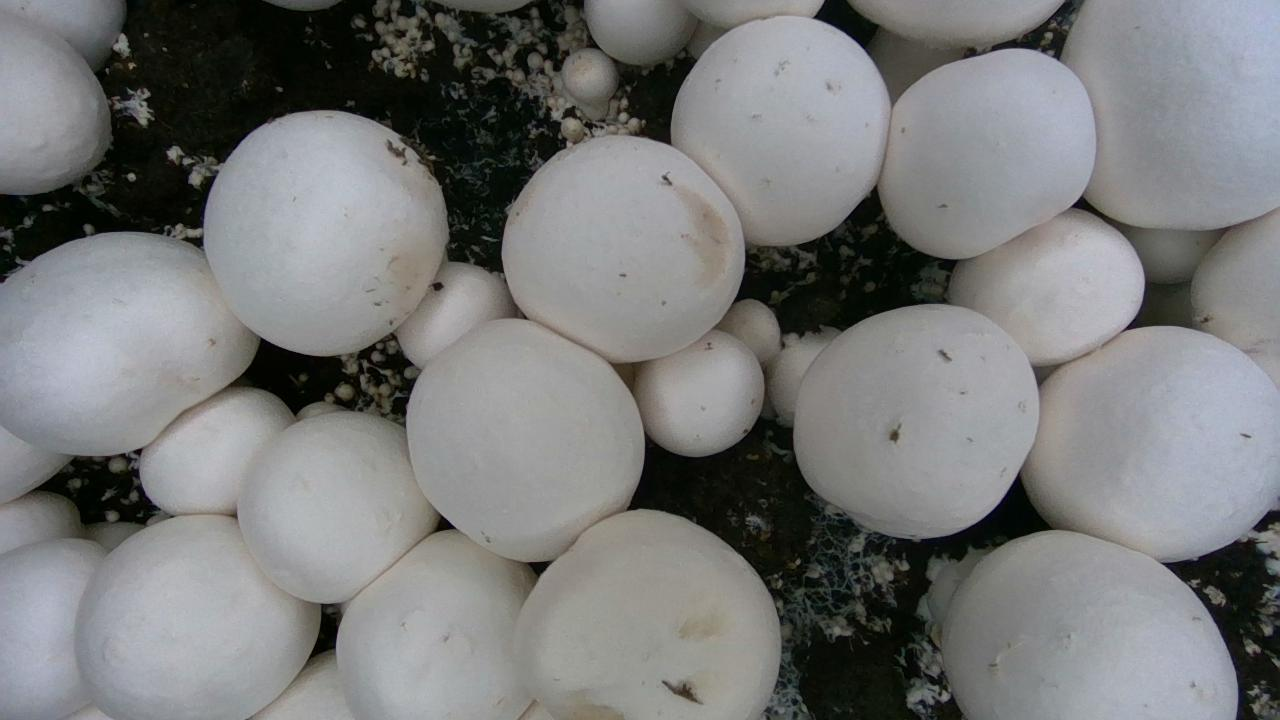WB: (1021, 327, 1279, 561), (203, 111, 447, 355), (407, 318, 644, 561), (0, 232, 258, 455), (794, 305, 1038, 538), (942, 530, 1237, 718), (514, 510, 780, 718), (502, 136, 744, 361), (671, 16, 890, 245), (1061, 0, 1279, 229), (75, 515, 319, 718), (878, 49, 1095, 258), (237, 412, 439, 602), (336, 530, 536, 718), (948, 208, 1144, 365), (140, 387, 294, 514), (0, 538, 107, 719), (634, 329, 763, 456), (1191, 208, 1279, 387), (395, 262, 517, 368), (849, 0, 1063, 48), (766, 326, 839, 426), (584, 0, 696, 65), (867, 28, 964, 103), (251, 650, 353, 719), (1112, 222, 1224, 283), (0, 490, 85, 553), (716, 299, 780, 365), (682, 0, 823, 29), (561, 48, 618, 119)
